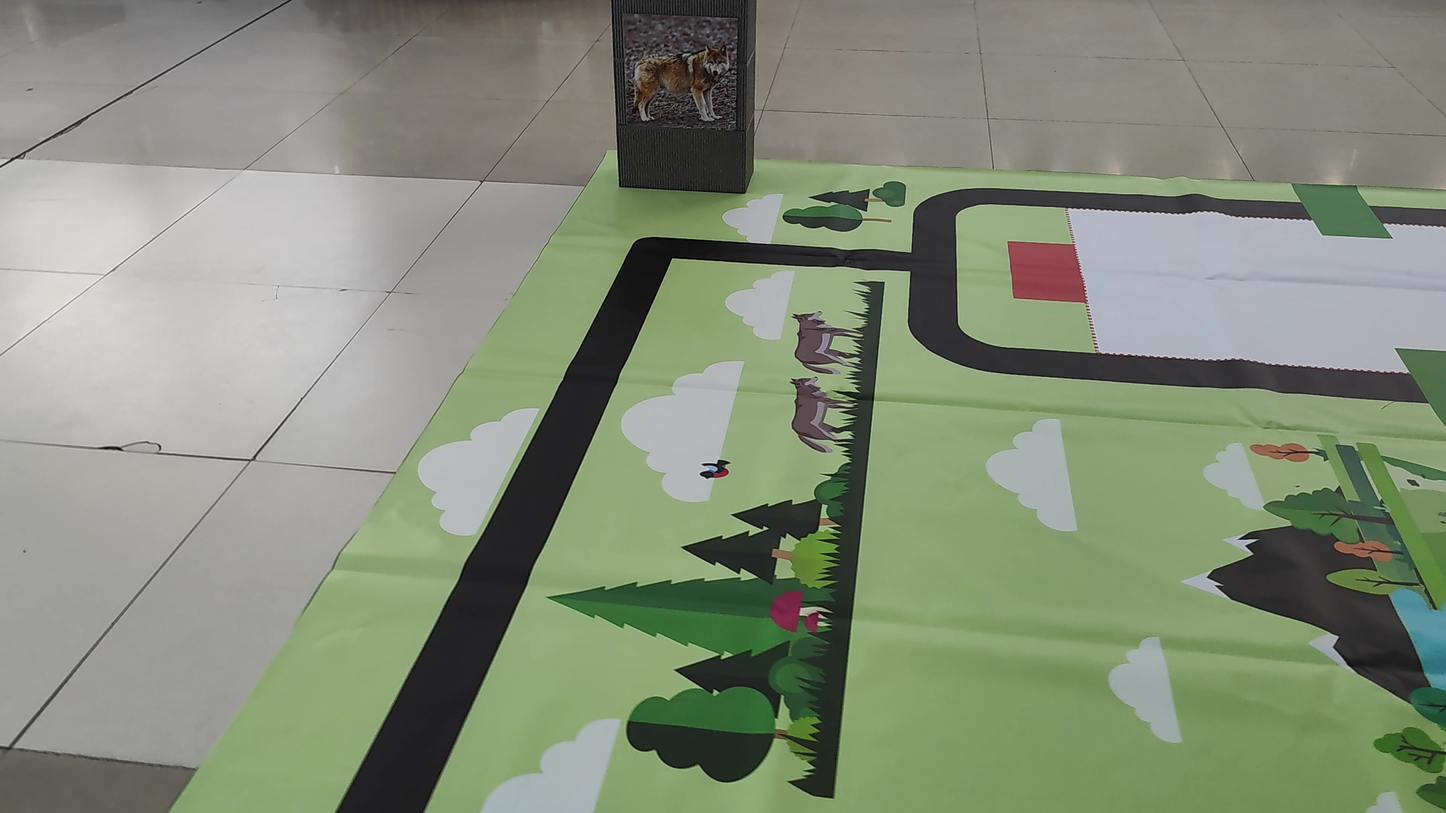wolf: (618, 18, 743, 125)
